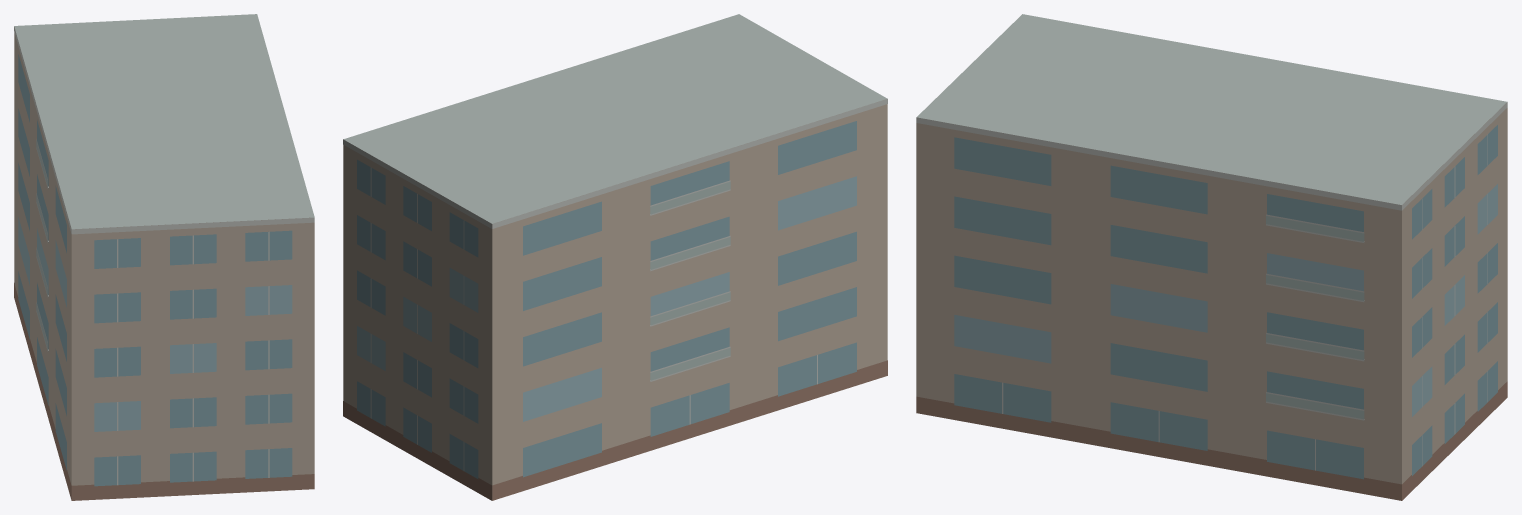
File: survey-upis-33009546.glb
3 renders of one model, left to right at view 1: azimuth 30°, elevation 25°; view 2: azimuth 150°, elevation 25°; view 3: azimuth 270°, elevation 25°, orthographic. The views are drawn at different scales.
Visible parts, largest first — view 1: survey-upis-33009546.tmp; view 2: survey-upis-33009546.tmp; view 3: survey-upis-33009546.tmp.
Part boxes in pixels (x1,y1,x2,y2): survey-upis-33009546.tmp: [14, 14, 314, 500]; survey-upis-33009546.tmp: [343, 14, 887, 500]; survey-upis-33009546.tmp: [916, 14, 1507, 500].
Size of the model in its own units: 17.89 by 12.9 by 23.38.
